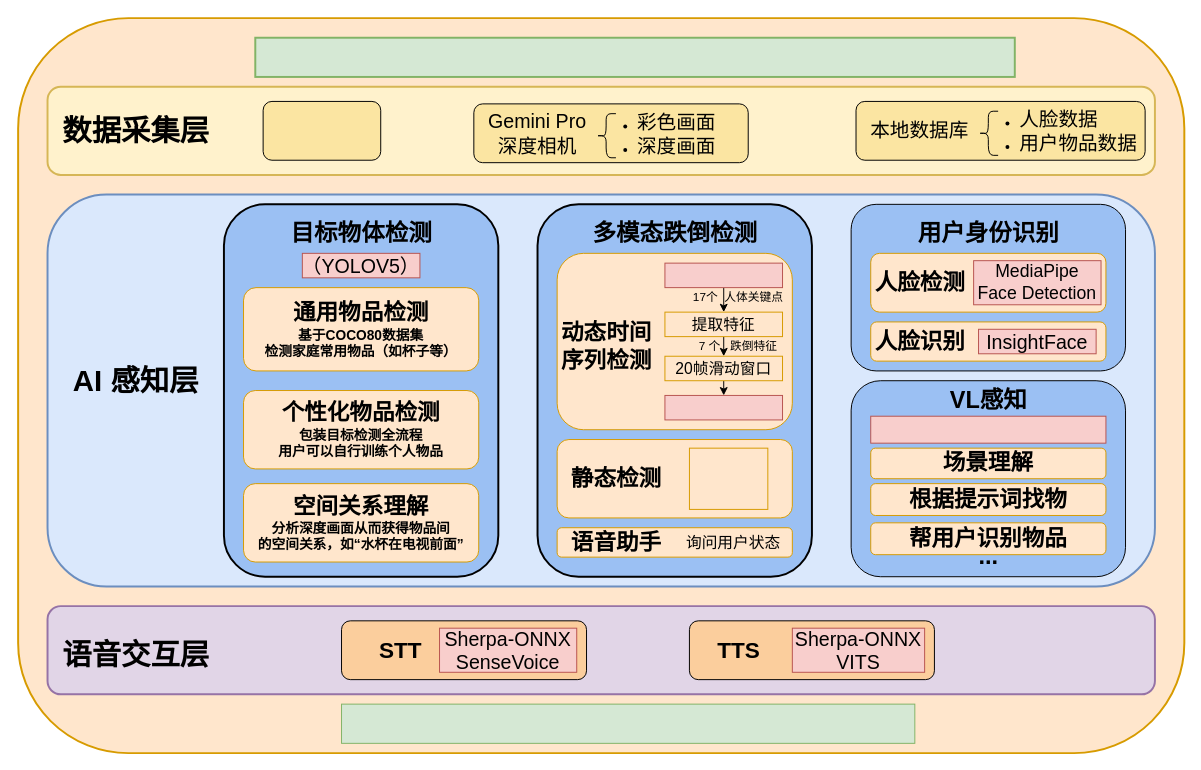
Some shapes in this 1201 by 770 pixel diagram are drawn without their labels. The centre of each missing label's shape, as x and y in pixels:
XGBOOST分类: the point at 723,407
YOLOV5 实现单帧姿态分类: the point at 728,478
YOLOV8-POSE: the point at 723,275
优点：完全本地部署，满足隐私保护与低延迟要求: the point at 628,723
基于多模态感知与本地边缘 AI 的家庭智能陪护系统: the point at 634,56
麦克风: the point at 321,130
（Qwen3-VL-2B-Instruct ）: the point at 988,429
